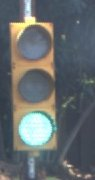Green: (5, 16, 59, 150)
